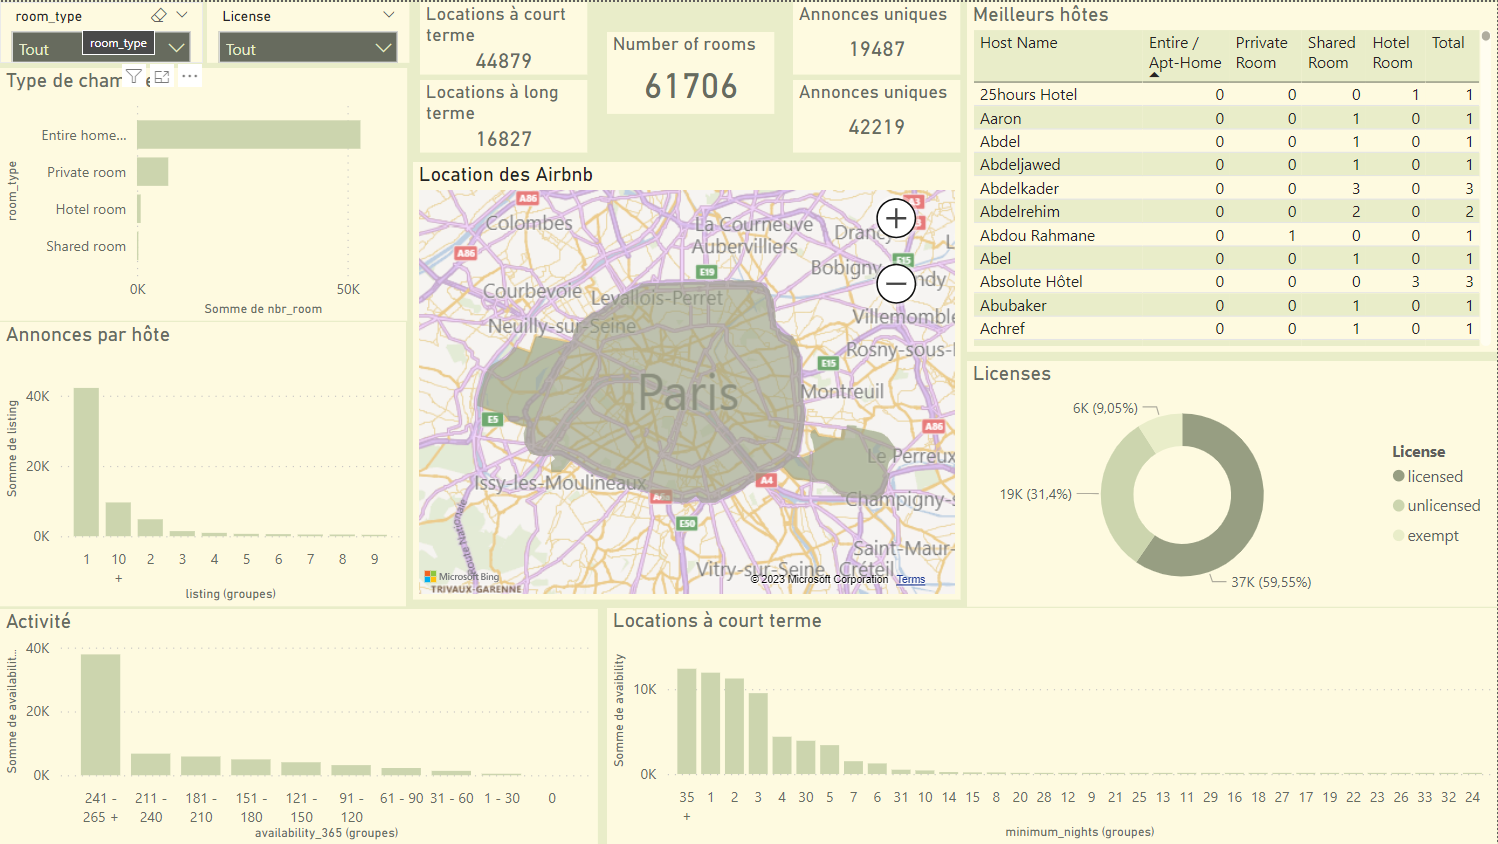

What the dashboard file says about the page in this screenshot:
{"tool":"powerbi","page":{"name":"Page 1","canvas":[1280,720],"ordinal":0},"visuals":[{"type":"clusteredBarChart","title":"Type de chambre","fields":{"Category":["type_de_chambre.room_type"],"Y":["type_de_chambre.nbr_room"]},"box":[0,56.7,347.8,215.6],"z":0},{"type":"tableEx","title":"Meilleurs hôtes","fields":{"Values":["best_host.host_name","best_host.entire-apt","best_host.private-room","best_host.shared-room","best_host.hotel-room","best_host.total"]},"box":[826.7,0,453.3,298.9],"z":1000},{"type":"clusteredColumnChart","title":"Annonces par hôte","fields":{"Y":["listing_per_host.listing"],"Category":["listing_per_host.listing (groupes)"]},"box":[0,273.3,346.7,243.3],"z":2000},{"type":"clusteredColumnChart","title":"Locations à court terme","fields":{"Category":["location_a_court_terme.minimum_nights (groupes)"],"Y":["location_a_court_terme.avaibility"]},"box":[518.9,518,761.1,201.7],"z":3000},{"type":"columnChart","title":"Activité","fields":{"Category":["activities.availability_365 (groupes)"],"Y":["activities.availability_365"]},"box":[0,518.9,511.1,202.2],"z":4000},{"type":"slicer","fields":{"Values":["type_de_chambre.room_type"]},"box":[0,0,173.3,52.2],"z":5000},{"type":"donutChart","title":"Licenses","fields":{"Category":["licenses (2).License"],"Y":["licenses (2).total_licensed"]},"box":[826.7,306.7,453.3,210],"z":6000},{"type":"filledMap","title":"Location des Airbnb","fields":{"Category":["map.City"],"Y":["map.latitude"],"X":["map.longitude"]},"box":[353.3,136.7,467.8,374.4],"z":7000},{"type":"card","title":"Number of rooms","fields":{"Values":["type_de_chambre.nbr_room"]},"box":[518.9,25.6,143.3,70],"z":8000},{"type":"card","title":"Annonces uniques","fields":{"Values":["listing_per_host.annonces multipels"]},"box":[677.8,0,143.3,62.2],"z":9000},{"type":"card","title":"Annonces uniques","fields":{"Values":["listing_per_host.annonces uniques"]},"box":[677.8,66.7,143.3,62.2],"z":10000},{"type":"card","title":"Locations à court terme","fields":{"Values":["location_a_court_terme.Courte location"]},"box":[358.9,0,143.3,62],"z":11000},{"type":"card","title":"Locations à long terme","fields":{"Values":["location_a_court_terme.longue location"]},"box":[358.9,66.7,143.3,62],"z":12000},{"type":"slicer","fields":{"Values":["licenses.License"]},"box":[176.7,0,173.3,52.2],"z":14000}]}

Visuals, with their boxes in screenshot pixels (x1, y1, x2, y2), scaled from the page's 1280x720 canvas onto the 1498x844 screenshot:
"Type de chambre" clusteredBarChart: (0, 66, 407, 319)
"Meilleurs hôtes" tableEx: (967, 0, 1497, 350)
"Annonces par hôte" clusteredColumnChart: (0, 320, 406, 606)
"Locations à court terme" clusteredColumnChart: (607, 607, 1497, 843)
"Activité" columnChart: (0, 608, 598, 843)
slicer - type_de_chambre.room_type: (0, 0, 203, 61)
"Licenses" donutChart: (967, 360, 1497, 606)
"Location des Airbnb" filledMap: (413, 160, 961, 599)
"Number of rooms" card: (607, 30, 775, 112)
"Annonces uniques" card: (793, 0, 961, 73)
"Annonces uniques" card: (793, 78, 961, 151)
"Locations à court terme" card: (420, 0, 588, 73)
"Locations à long terme" card: (420, 78, 588, 151)
slicer - licenses.License: (207, 0, 410, 61)
